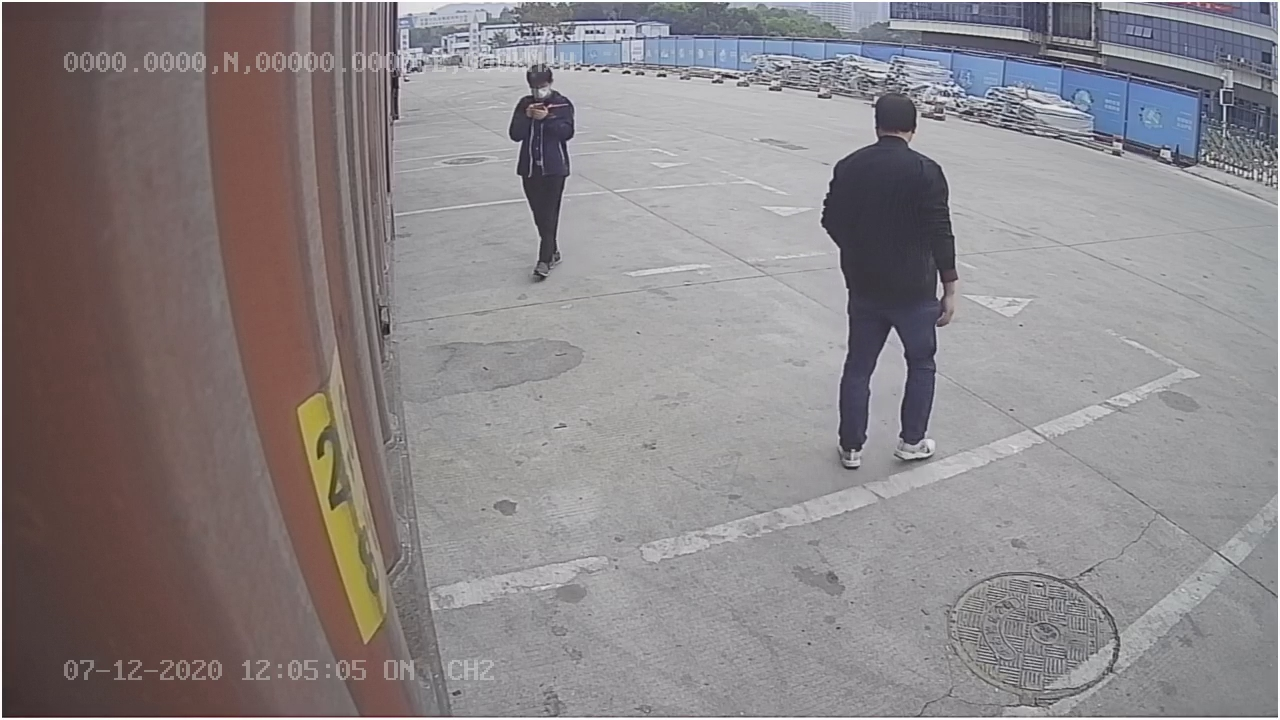person: (819, 81, 962, 471)
